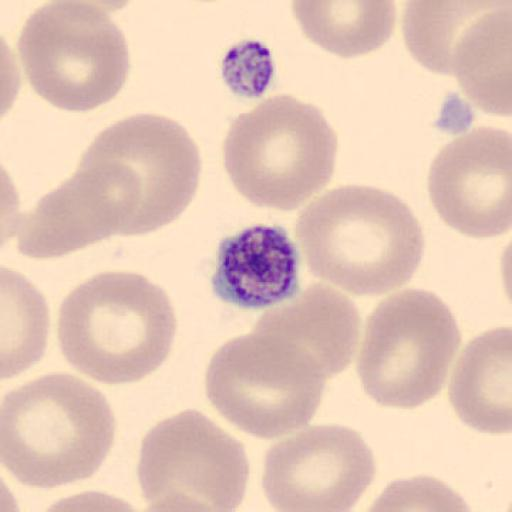Platelet: (207, 220, 304, 310), (218, 36, 280, 101)
RBC: (74, 112, 202, 238), (294, 182, 427, 298), (221, 91, 339, 214), (56, 268, 179, 386), (2, 371, 117, 491), (203, 330, 327, 440), (356, 284, 462, 410), (17, 0, 131, 114), (135, 407, 252, 511), (250, 282, 362, 381), (260, 421, 378, 511), (9, 169, 120, 260), (425, 125, 512, 240), (402, 0, 512, 76), (448, 324, 512, 436), (452, 6, 512, 117), (289, 0, 398, 61), (2, 266, 52, 380), (75, 160, 143, 236), (359, 472, 476, 512), (33, 489, 152, 512), (135, 489, 235, 512), (0, 13, 21, 119), (1, 32, 23, 116), (0, 458, 21, 511), (499, 226, 512, 308), (70, 0, 142, 13), (1, 471, 23, 512)
